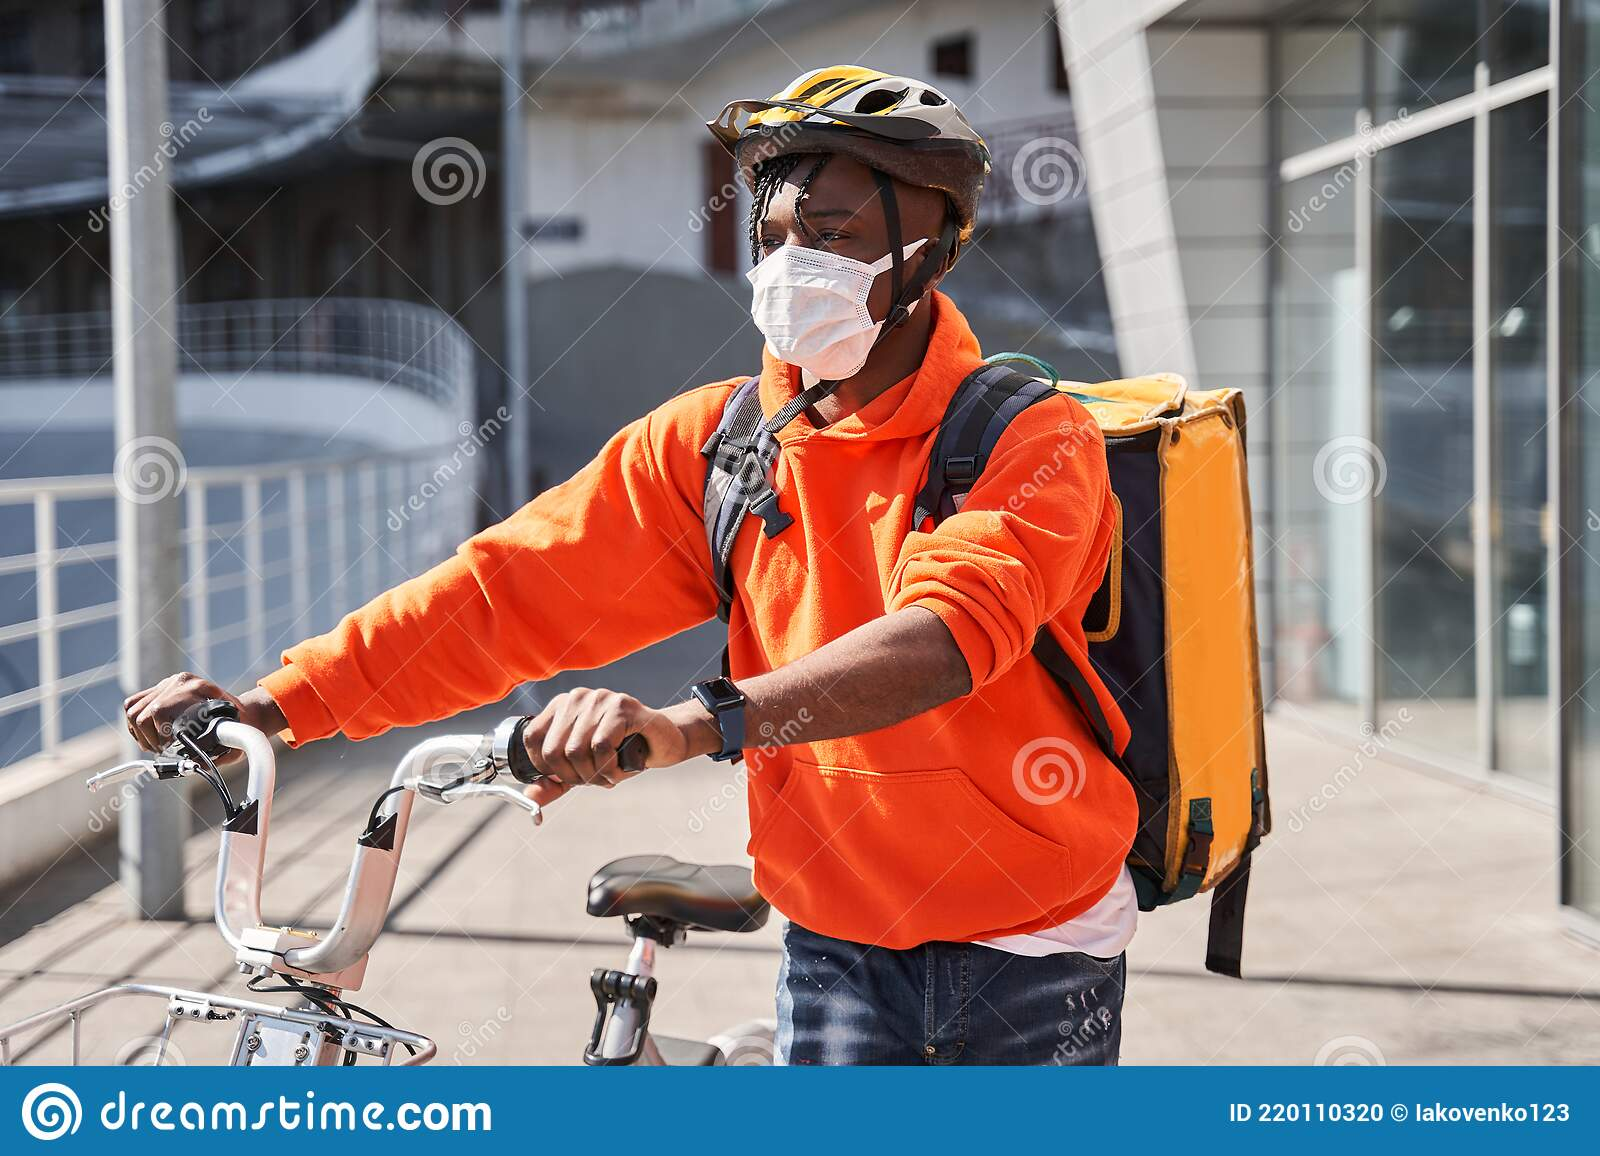helmet: (708, 65, 990, 379)
